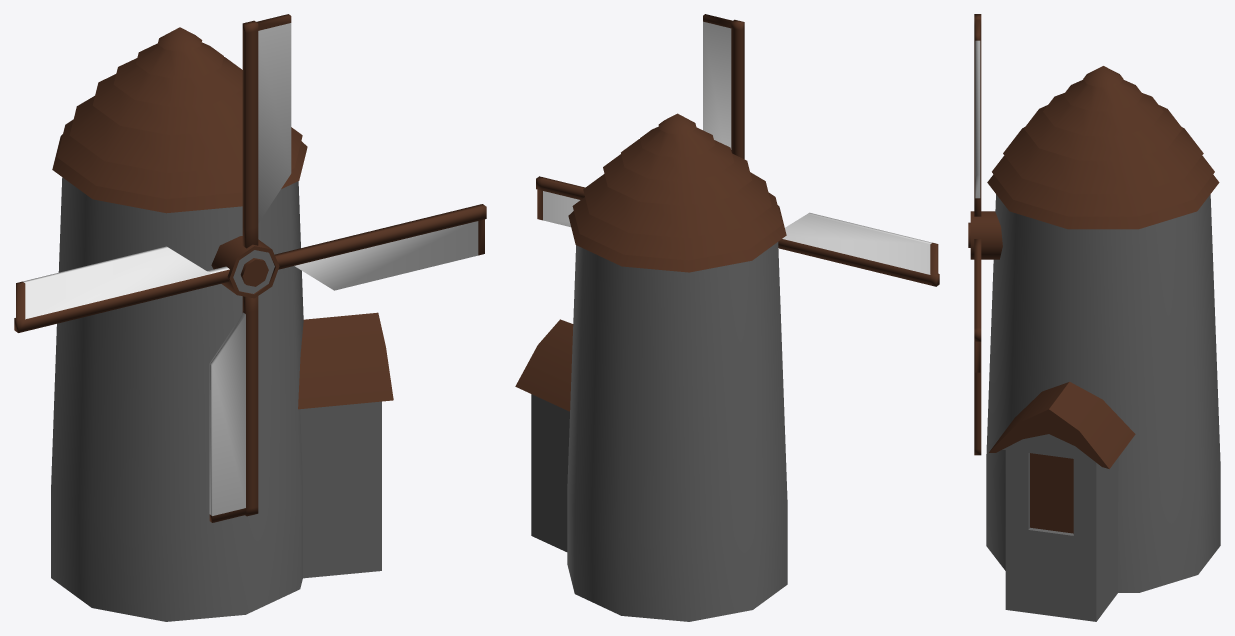
Rendered from Moinho.fbx.
3 renders of one model, left to right at view 1: azimuth 30°, elevation 25°; view 2: azimuth 150°, elevation 25°; view 3: azimuth 270°, elevation 25°, orthographic. The views are drawn at different scales.
Visible parts, largest first — view 1: Moinho, MoinhoPas; view 2: Moinho, MoinhoPas; view 3: Moinho, MoinhoPas.
Part boxes in pixels (box(x1,y1,x2,y2)): Moinho: box(51, 27, 393, 621); MoinhoPas: box(14, 14, 486, 522); Moinho: box(515, 113, 787, 621); MoinhoPas: box(536, 14, 939, 286); Moinho: box(968, 66, 1220, 621); MoinhoPas: box(974, 14, 981, 455).
Bounding box in the file's own units: 309 × 375 × 162.
